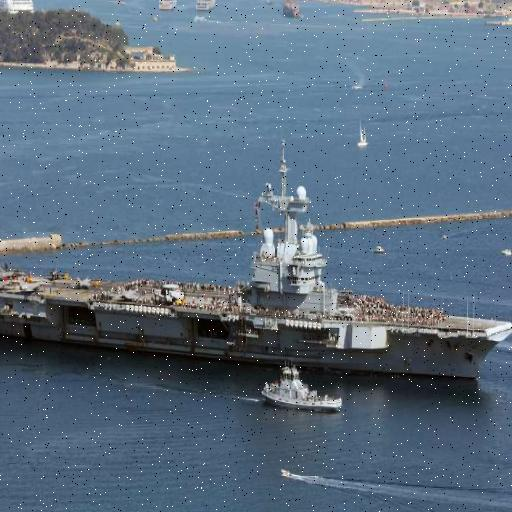Portanaves: (1, 131, 512, 387)
